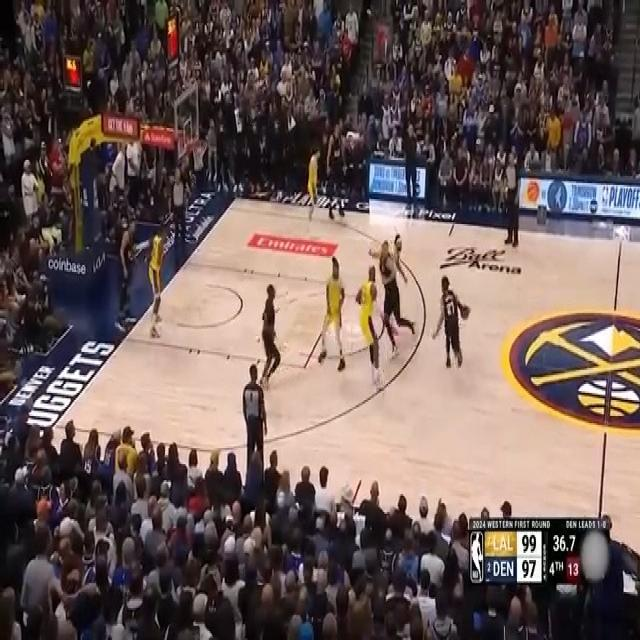basketball: (458, 295, 473, 328)
hoop: (190, 133, 208, 174)
